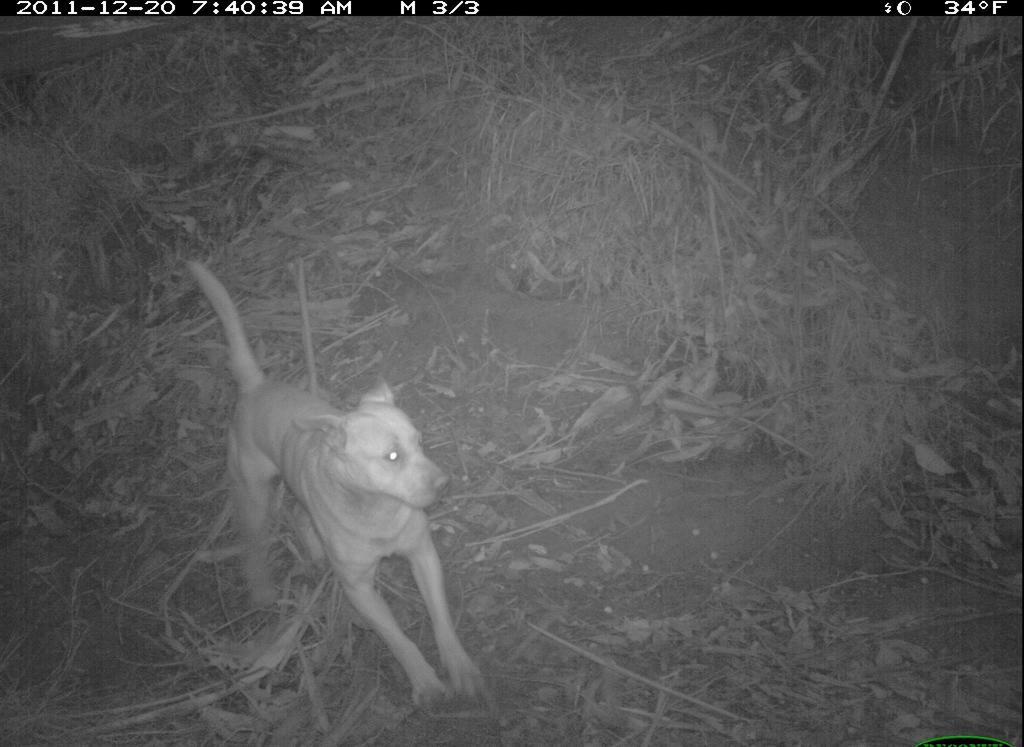dog: (190, 241, 507, 733)
